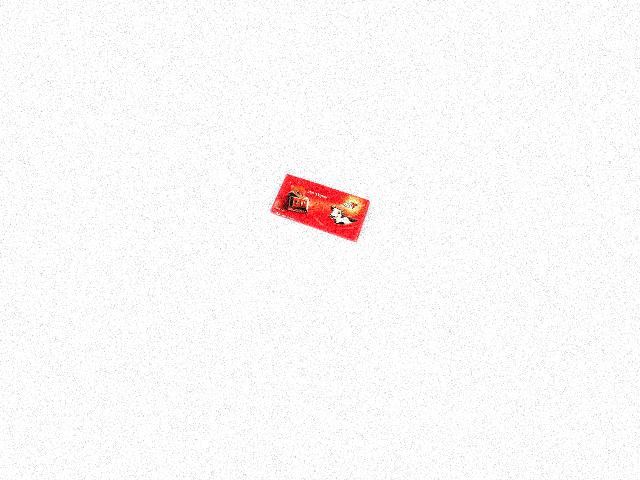chocolate: (269, 172, 367, 242)
